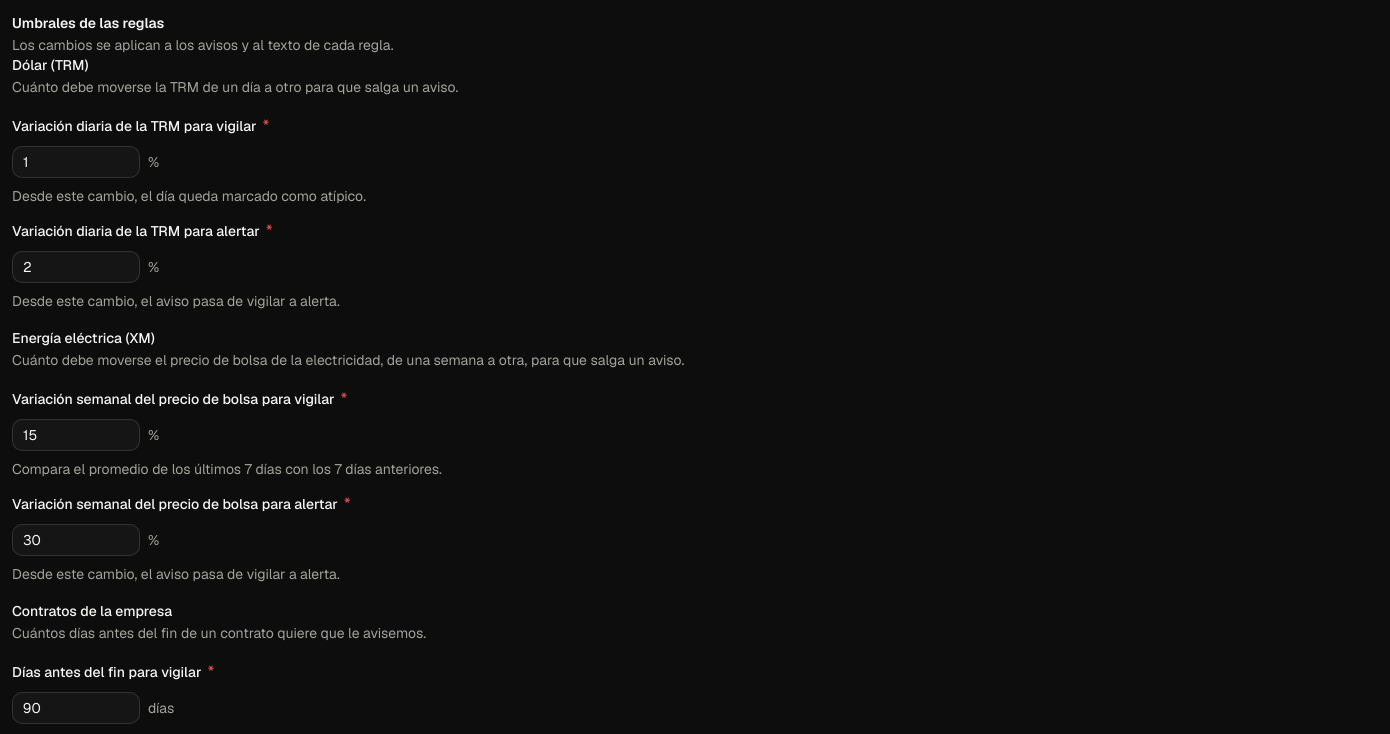
Test: PreferenciasView › saves nothing when one part is invalid, and discard reverts both parts
Replace the text in the field labelled "Variación diaria de la TRM para vigilar" with "0" at (76, 162), box [12,146,140,178]
(page scrolled)
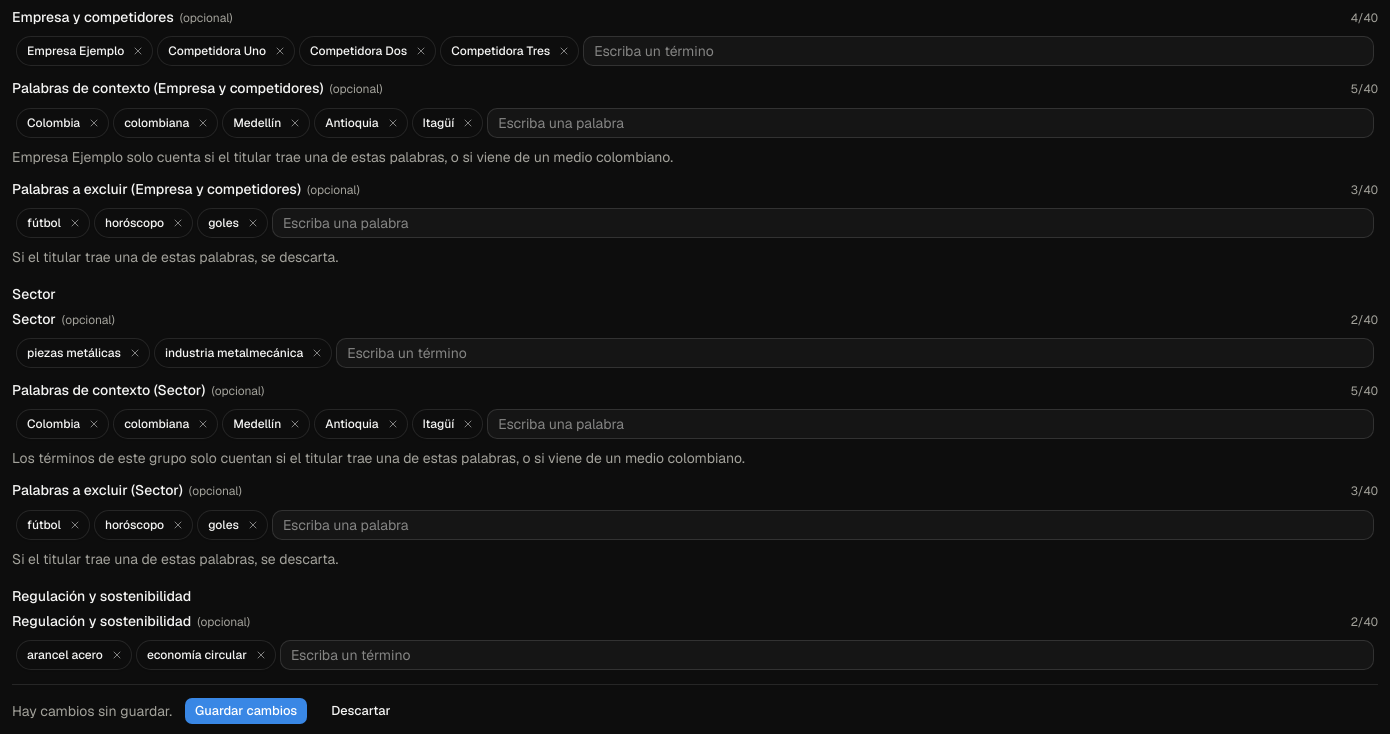
Type "hierro" into the dropdown labelled "Sector" at (855, 353), box [336,338,1374,368]
Then press Enter
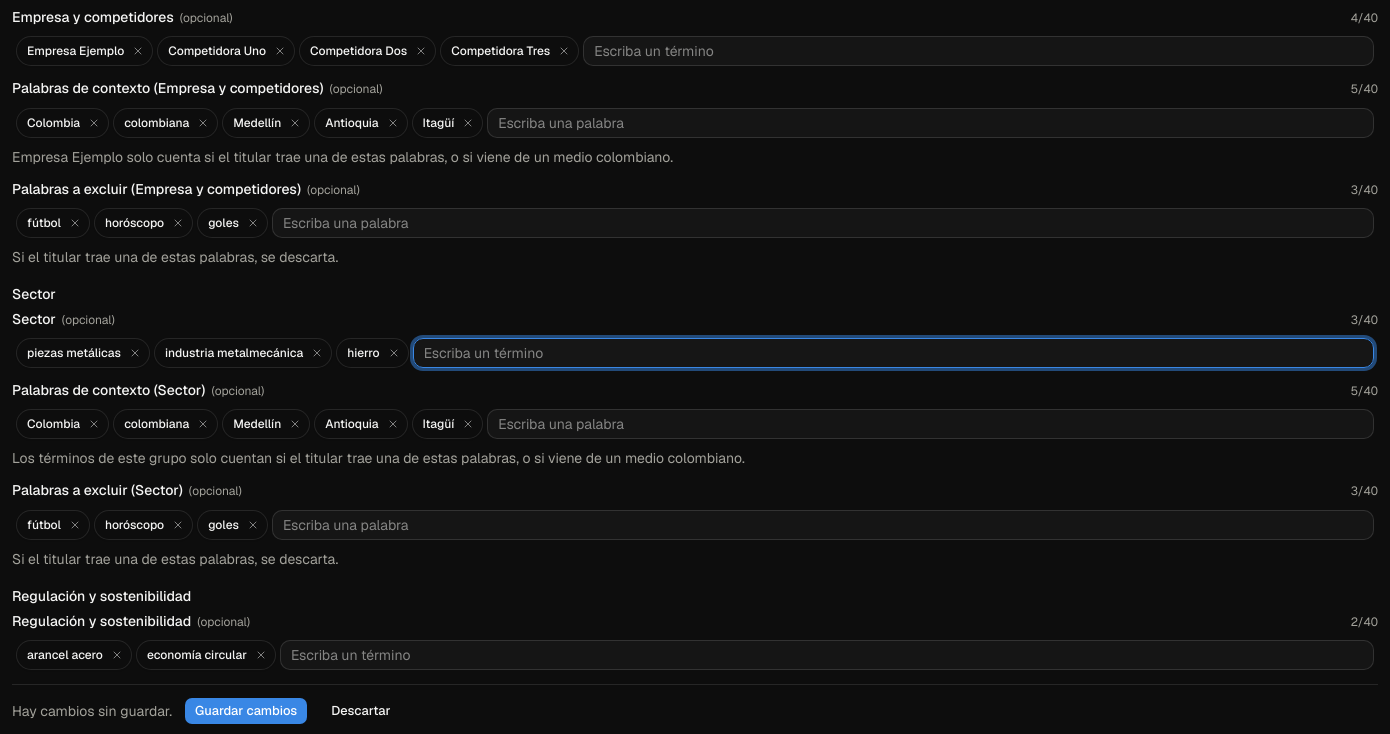
Click the button "Guardar cambios" at (246, 711), box [184,697,308,725]
(page scrolled)
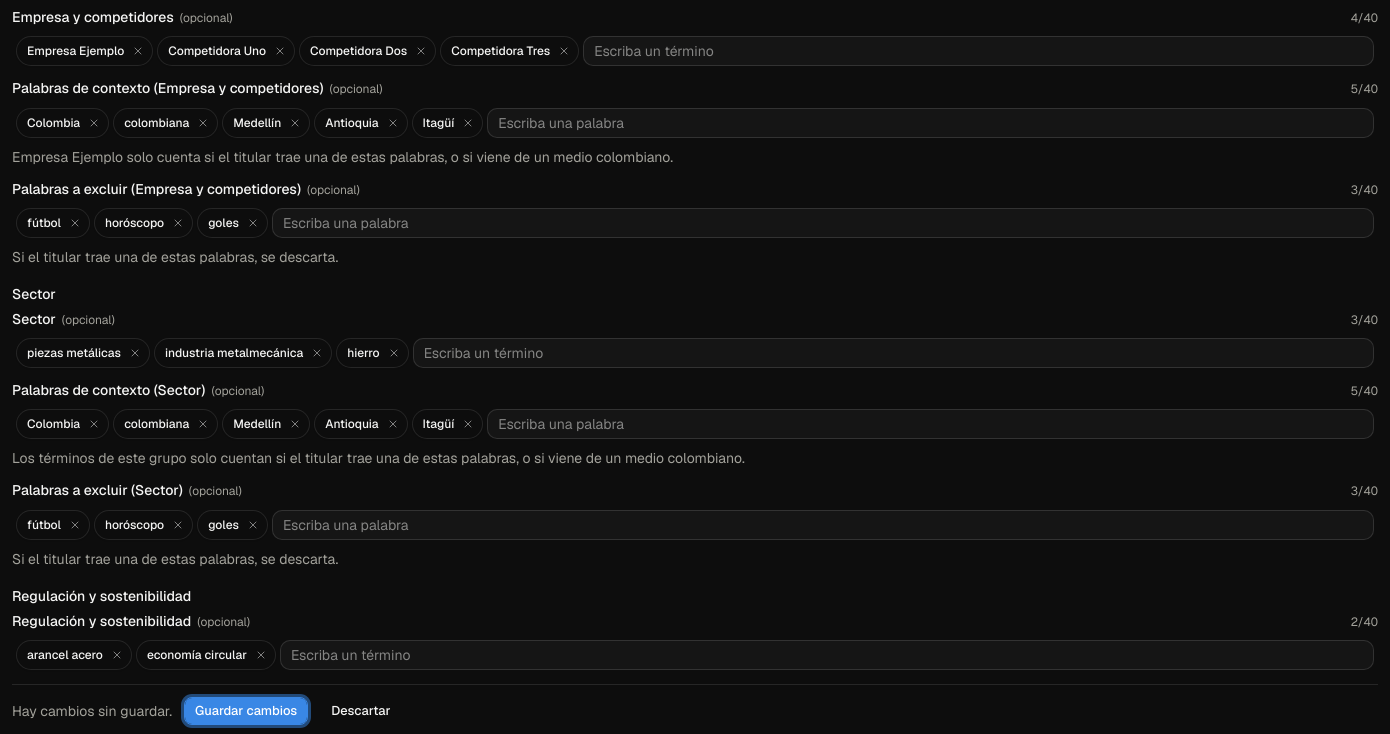
Click the button "Descartar" at (361, 711), box [320,697,402,725]
(page scrolled)
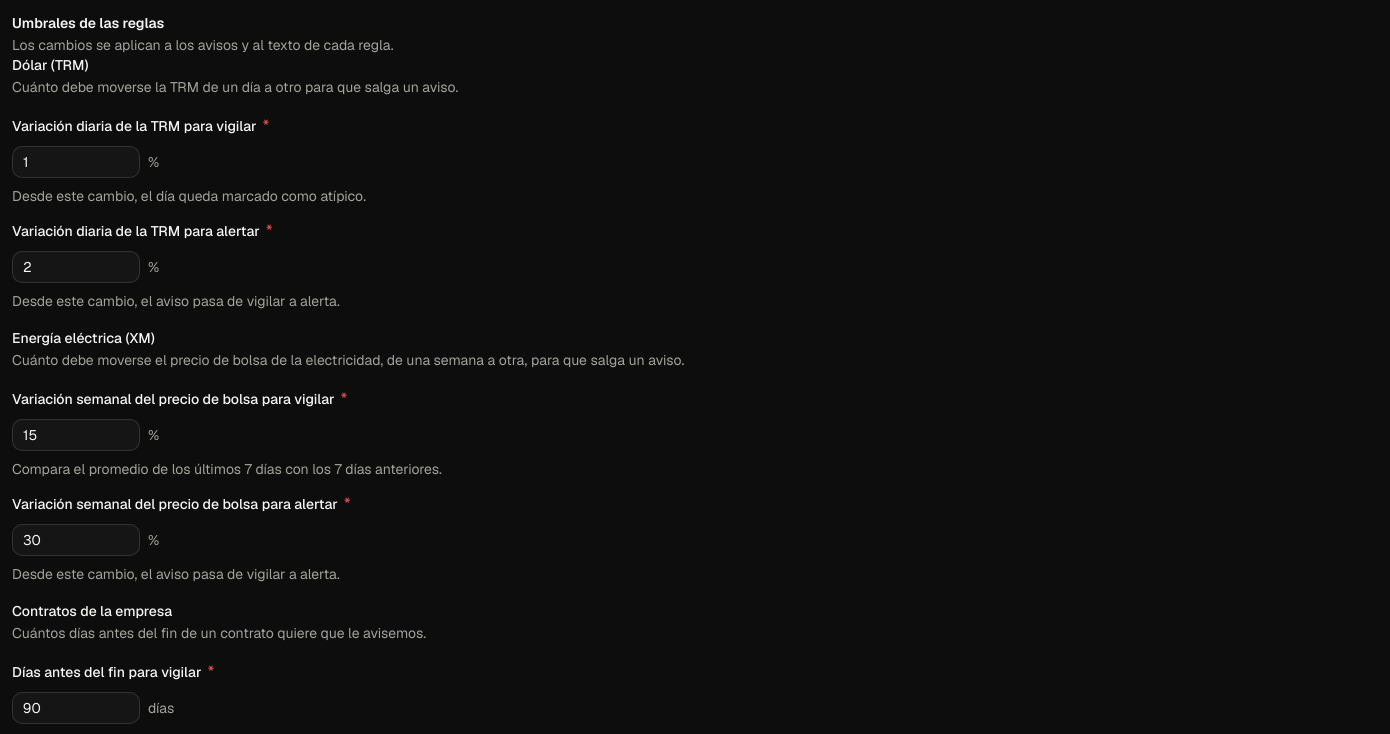
Expected: the field labelled "Variación diaria de la TRM para vigilar" holds "1", [12,146,140,178]
Expected: the button "Guardar cambios" is gone
